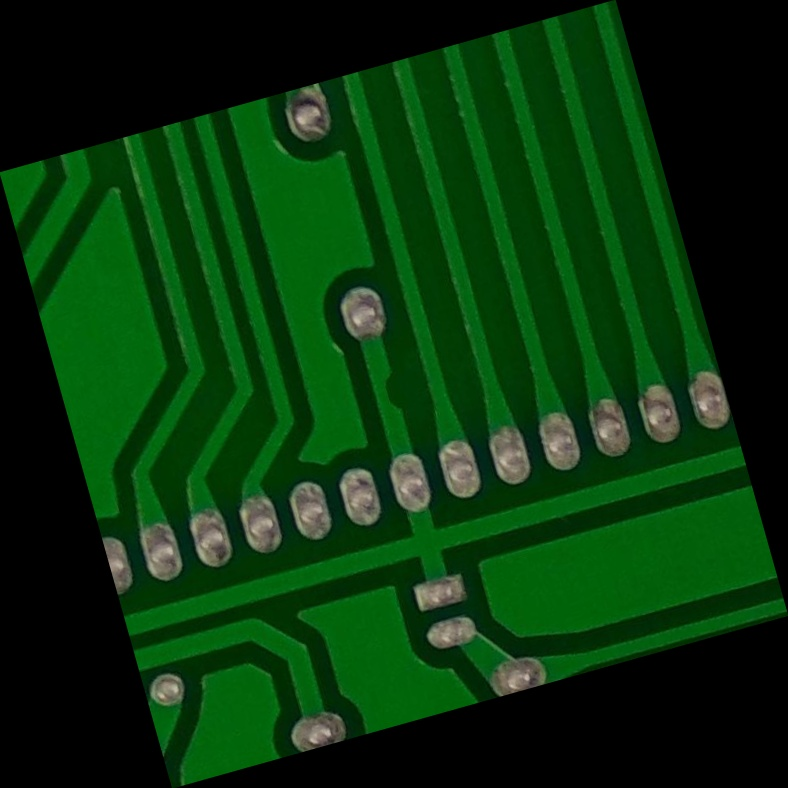mouse_bite: (363, 361, 426, 428)
